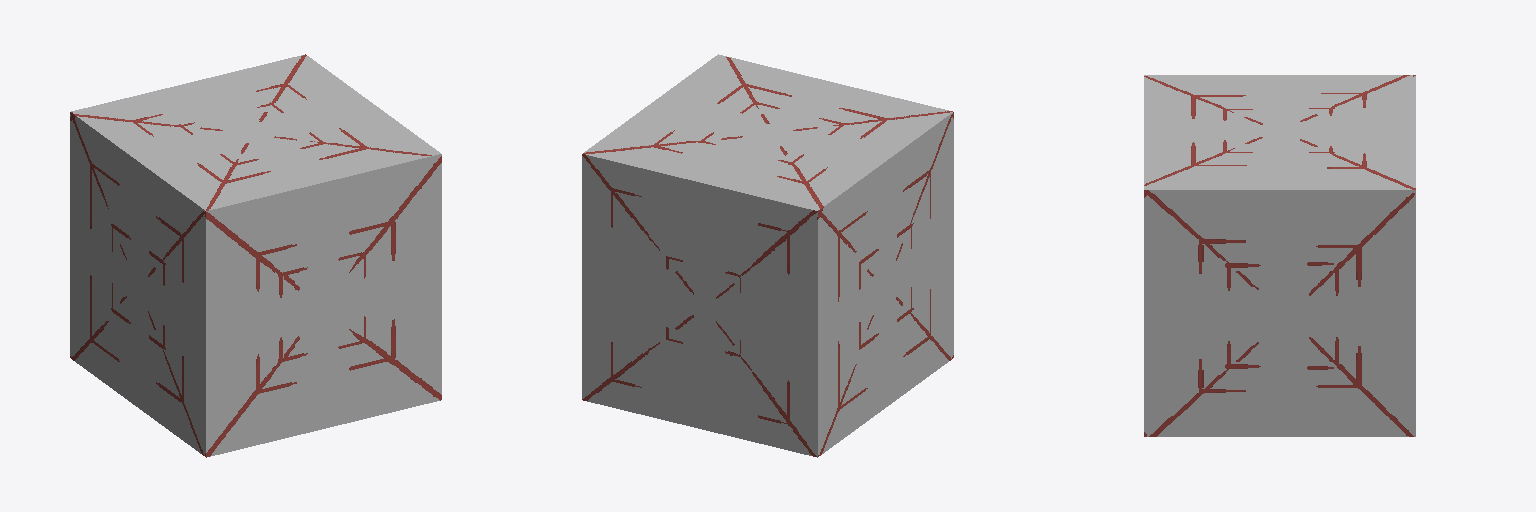
3 views of the same model, side by side, from view 1: azimuth 30°, elevation 25°; view 2: azimuth 150°, elevation 25°; view 3: azimuth 270°, elevation 25° (orthographic).
Visible parts, largest first — view 1: Cube; view 2: Cube; view 3: Cube.
Part boxes in pixels (x1,y1,x2,y2): Cube: (70, 54, 441, 457); Cube: (582, 54, 953, 457); Cube: (1144, 75, 1415, 436).
Size of the model in its own units: 2 by 2 by 2.
Materials: 1 (1 with a texture image).